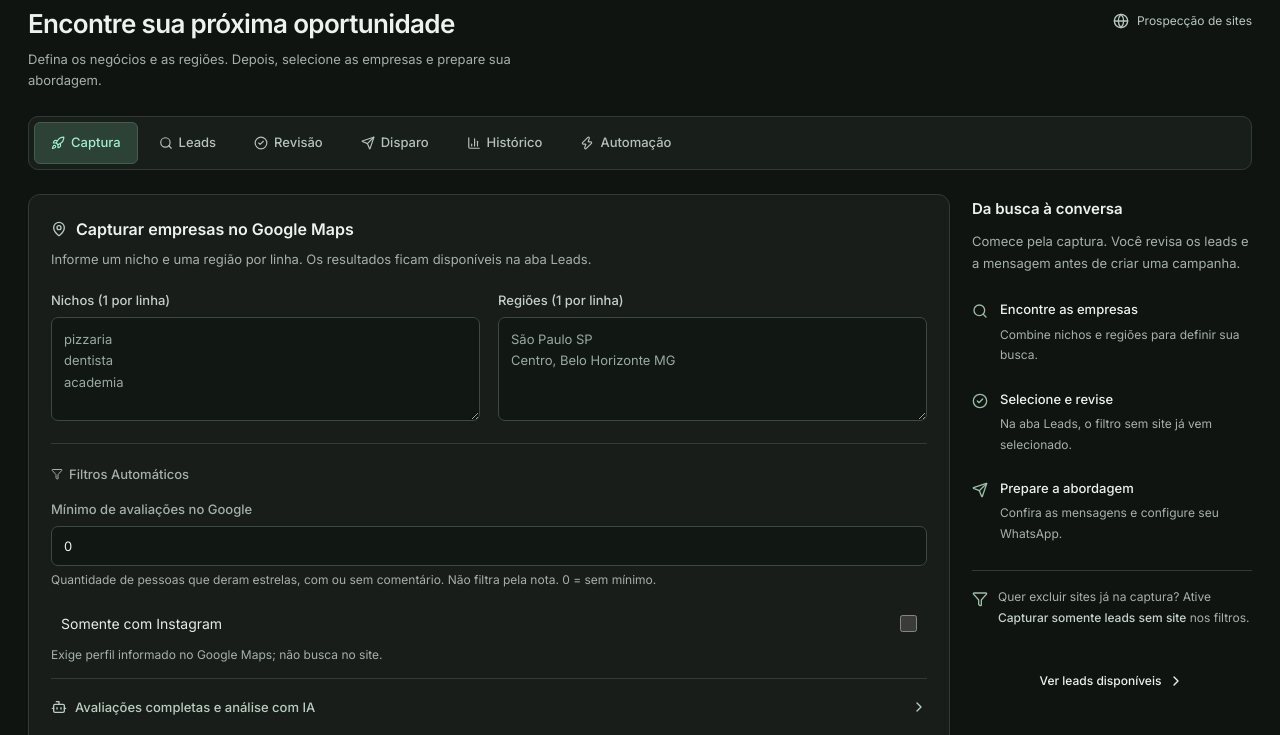
Scenario: mínimo de avaliações na Prospecção Sites › mantém controles acessíveis, independentes e com padrão zero
Replace the text in the number field labelled "Mínimo de avaliações no Google" with "25": x=489, y=546 [51, 526, 927, 566]
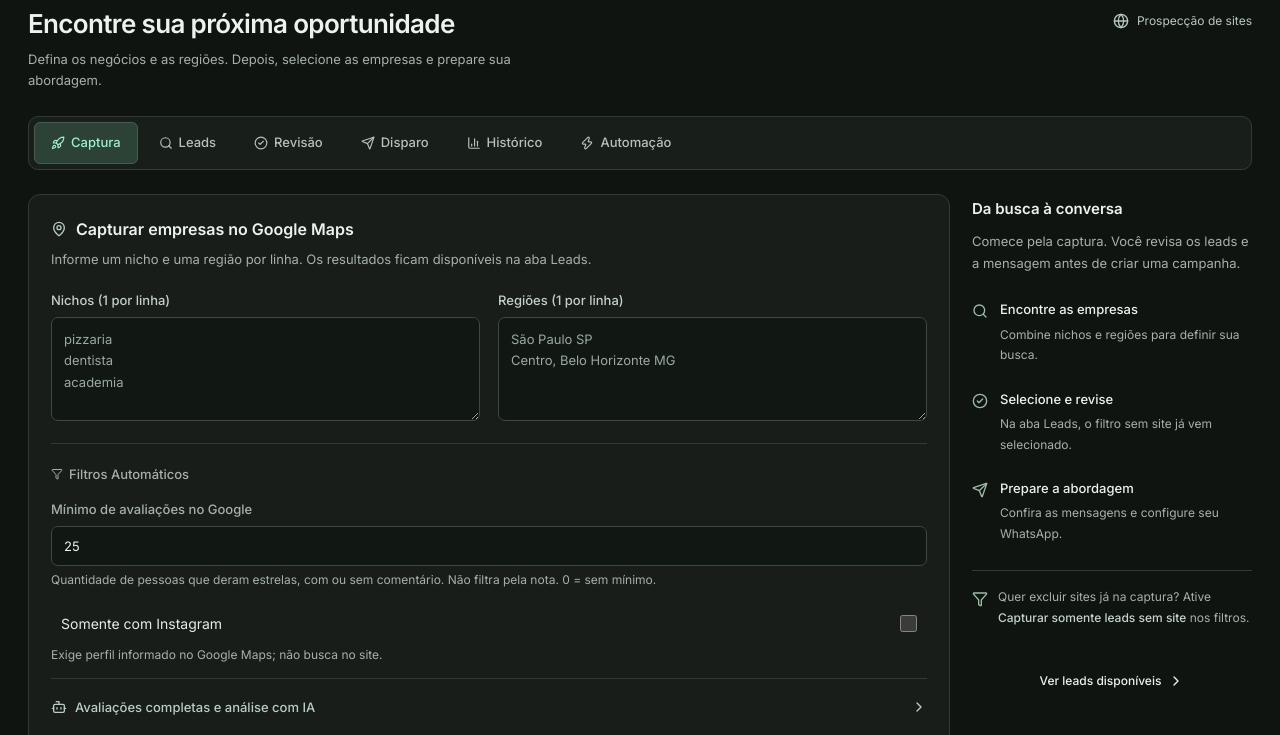
Click the button "Automação": x=626, y=143 [564, 122, 688, 164]
(page scrolled)
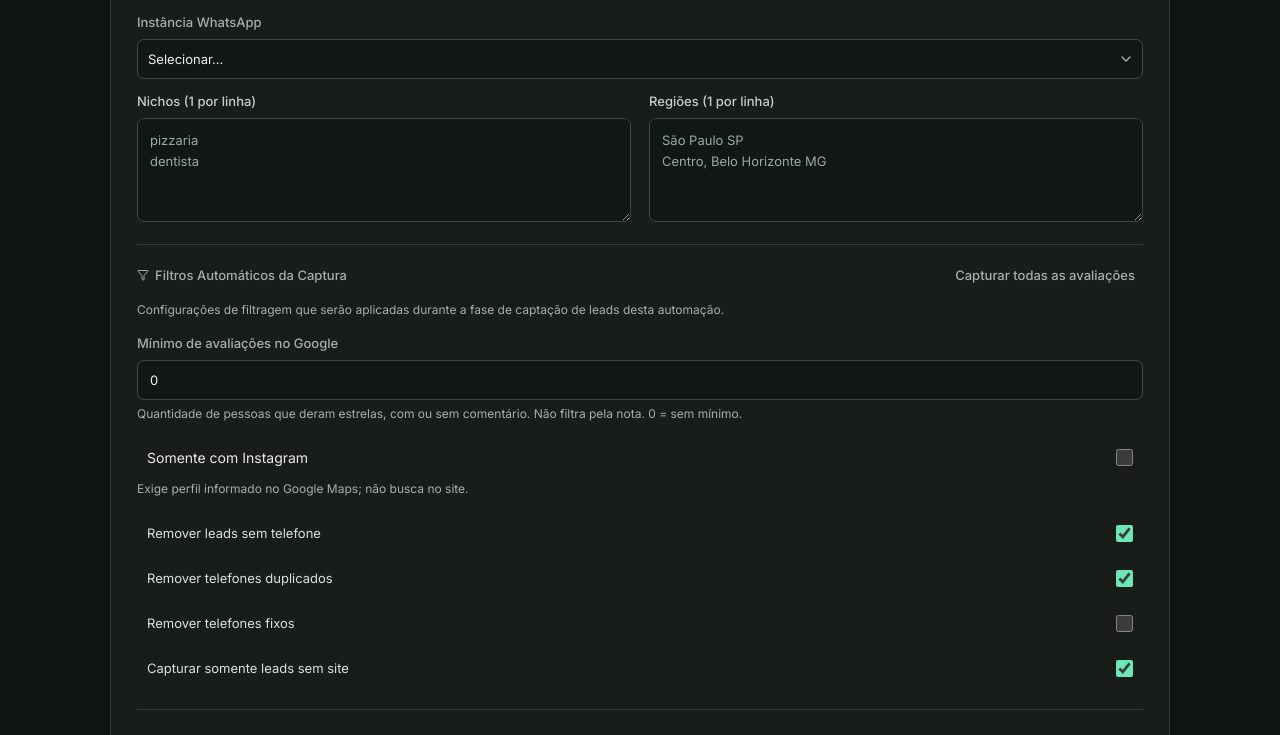
expect the number field labelled "Mínimo de avaliações no Google" holds "0": met
Replace the text in the number field labelled "Mínimo de avaliações no Google" with "50": x=640, y=380 [137, 360, 1143, 400]
(page scrolled)
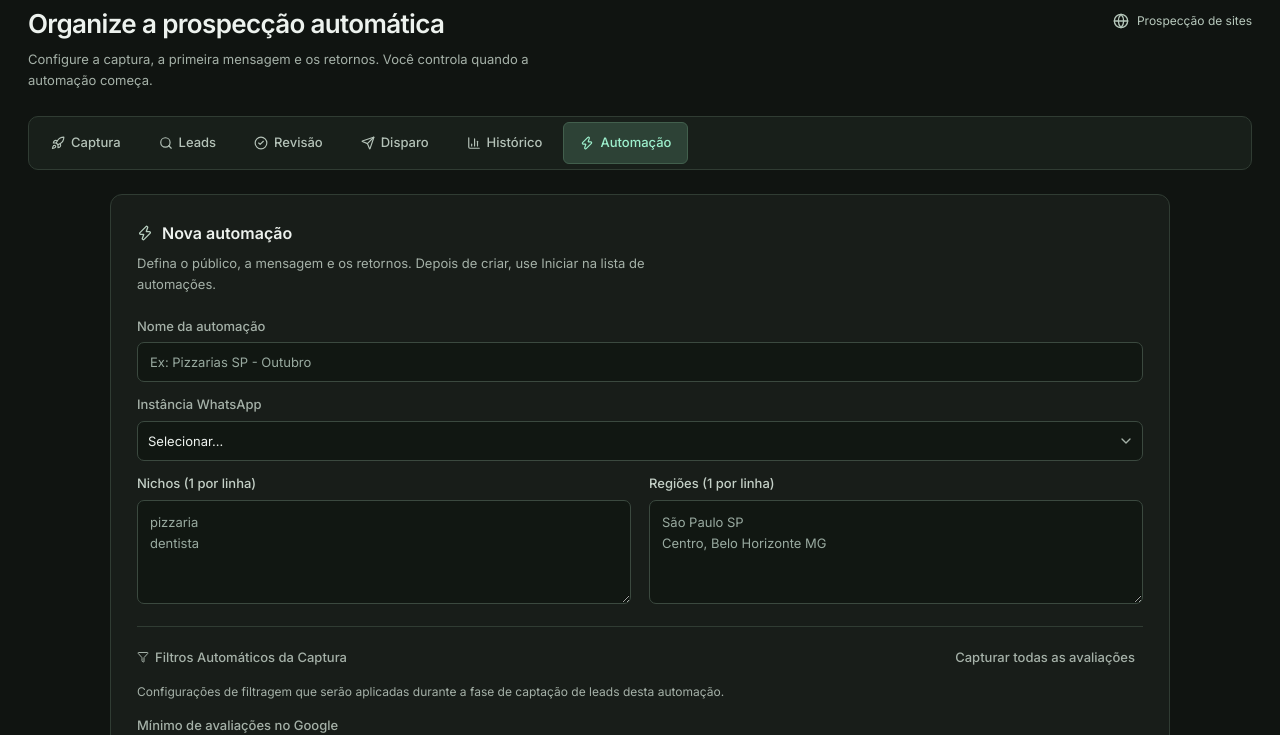
Click the button "Captura": x=86, y=143 [34, 122, 138, 164]
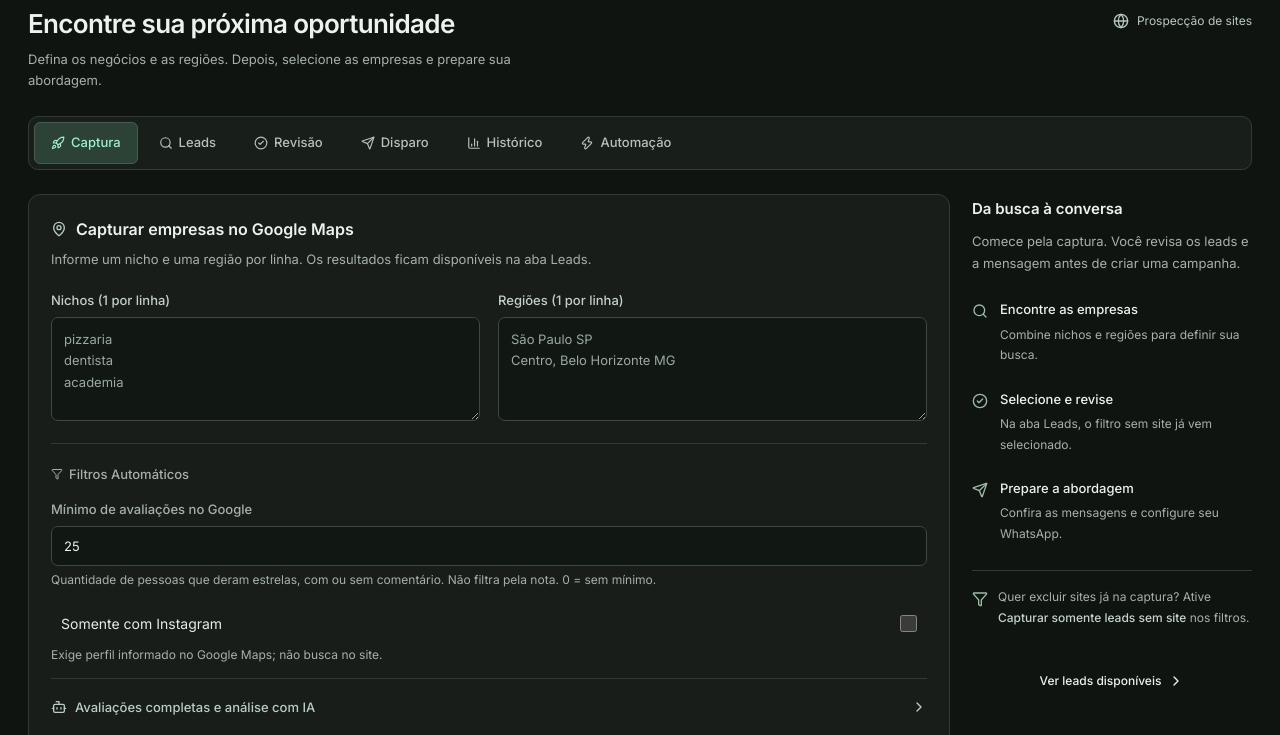
expect the number field labelled "Mínimo de avaliações no Google" holds "25": met, box [51, 526, 927, 566]
Click the button "Automação": x=626, y=143 [564, 122, 688, 164]
(page scrolled)
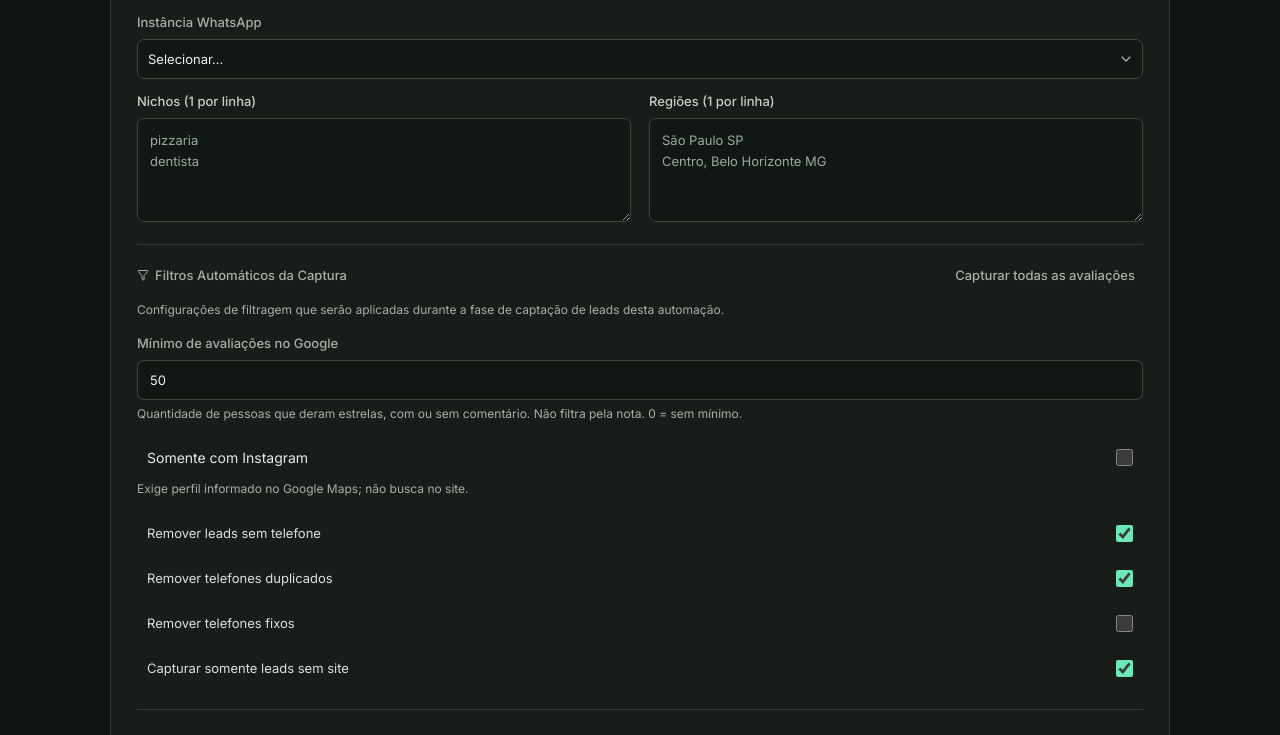
expect the number field labelled "Mínimo de avaliações no Google" holds "50": met, box [137, 360, 1143, 400]
